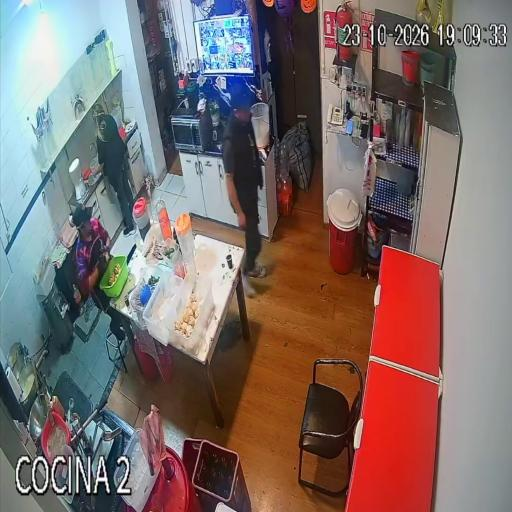Balde: (251, 102, 270, 149)
Envase Llajua: (52, 395, 64, 418)
Jarra1: (133, 197, 150, 238)
Jarra2: (175, 213, 195, 262)
Jarra4: (111, 103, 125, 139)
Jarra5: (69, 158, 87, 201)
Licuadora: (209, 100, 223, 150)
Microondas: (171, 109, 211, 152)
Persona1: (222, 92, 266, 277)
Persona2: (72, 206, 125, 344), (96, 105, 134, 234)
Taper: (99, 256, 128, 297)
Taper2: (129, 265, 164, 329)
Taper3: (143, 273, 183, 344)
Taper4: (162, 274, 214, 355)
Taper5: (114, 429, 158, 512)
